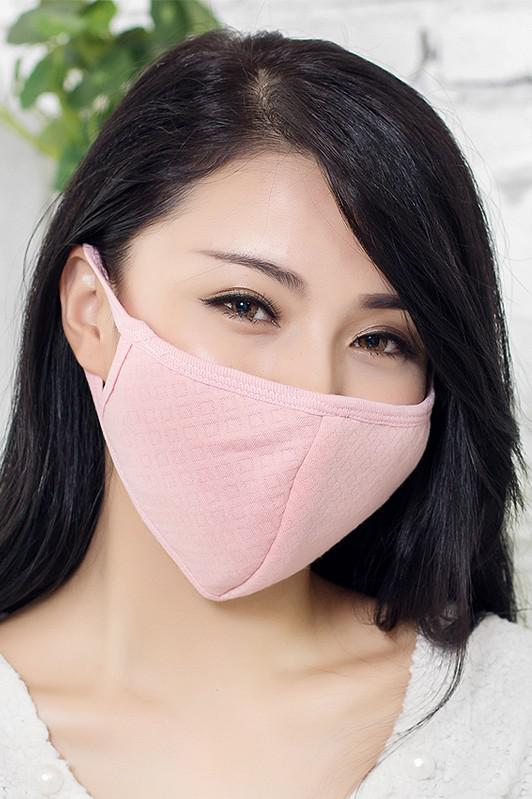OK: (102, 245, 449, 592)
